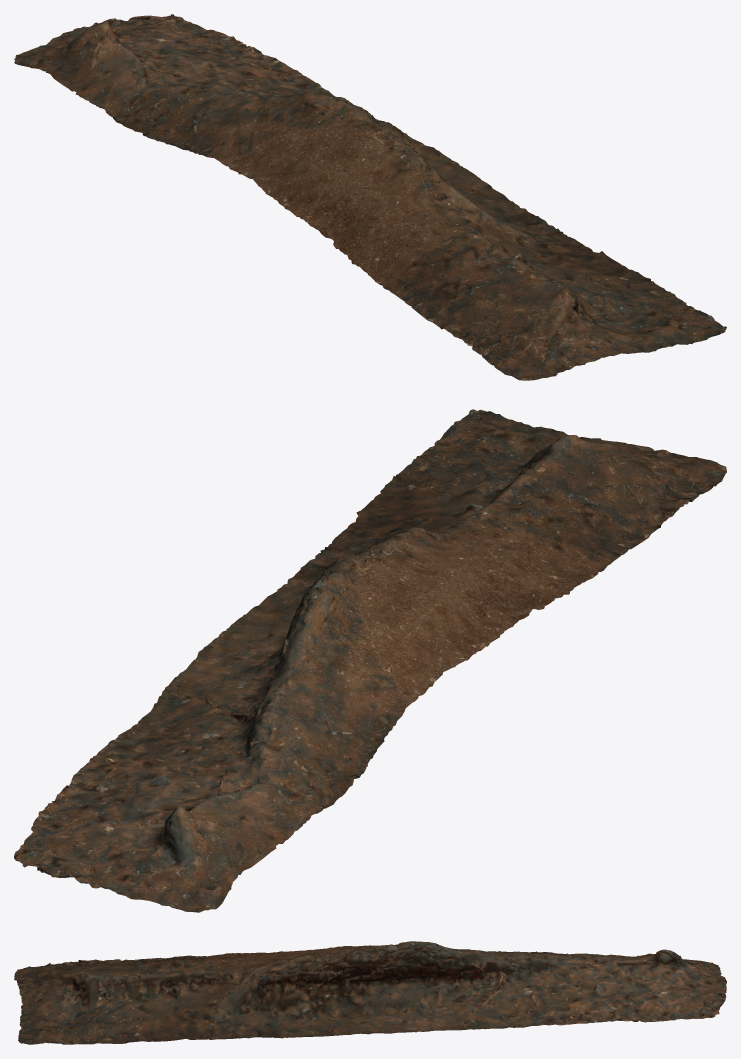
The model's file is single_root.glb.
The picture shows the model from 3 angles, top to bottom: view 1: azimuth 30°, elevation 25°; view 2: azimuth 150°, elevation 25°; view 3: azimuth 270°, elevation 25°; orthographic projection. The views are drawn at different scales.
Visible parts, largest first — view 1: single_root; view 2: single_root; view 3: single_root.
Boxes of the visible parts, x1,y1,x2,y2 form: single_root: (14, 14, 726, 380); single_root: (14, 409, 726, 912); single_root: (14, 941, 726, 1044).
Bounding box in the file's own units: 0.5552 × 0.1777 × 1.84.
1 material, 1 textured.
